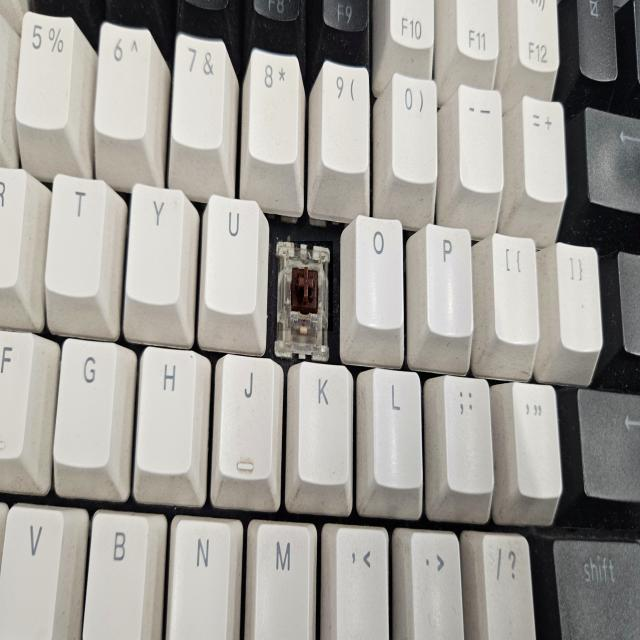C: (278, 241, 333, 331)
